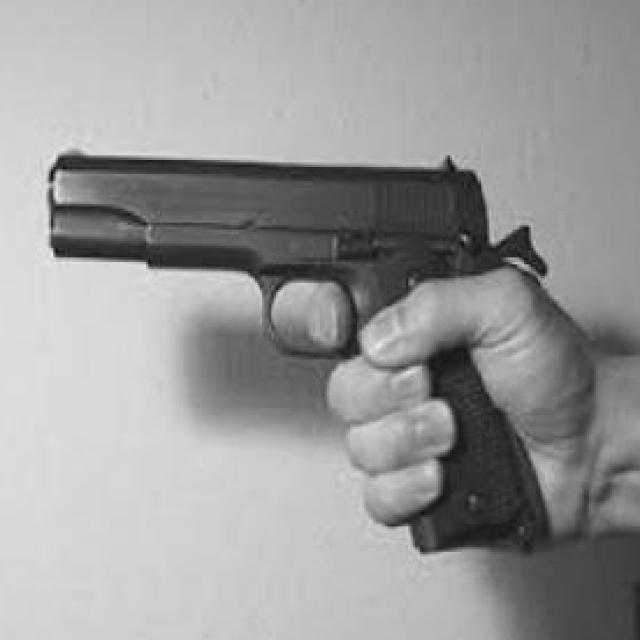pistol: (44, 132, 561, 559)
